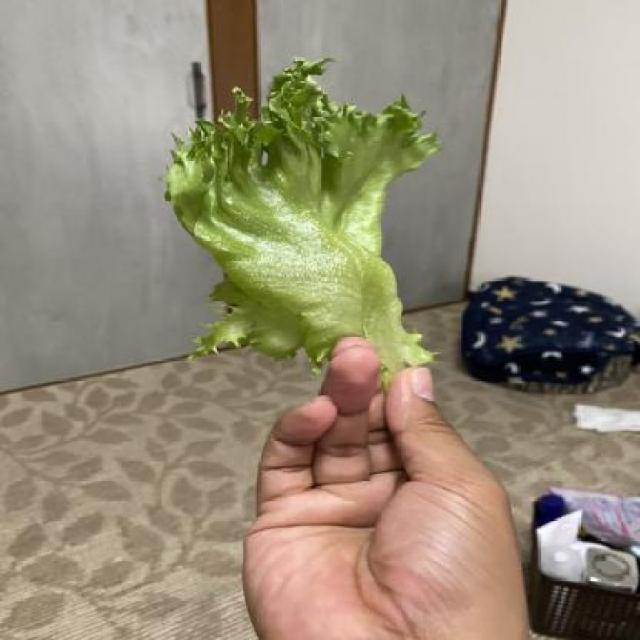Lettuce head: (160, 53, 448, 393)
